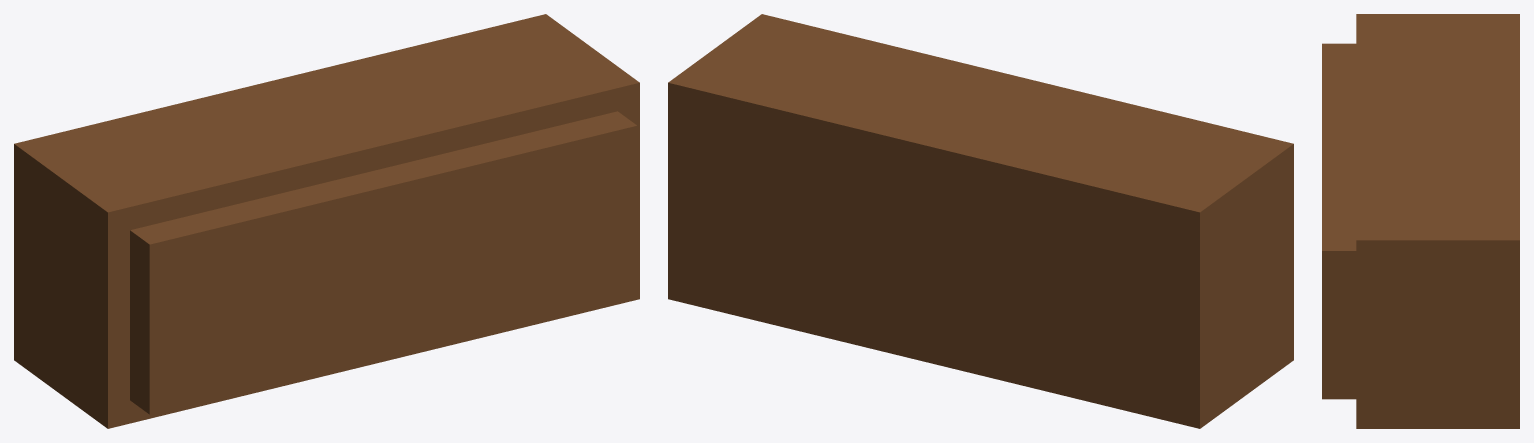
Rendered from SM_CommonWaterTrough.obj.
The picture shows the model from 3 angles, left to right: view 1: azimuth 30°, elevation 25°; view 2: azimuth 150°, elevation 25°; view 3: azimuth 270°, elevation 25°; orthographic projection. The views are drawn at different scales.
Visible parts, largest first — view 1: SM_CommonWaterTrough; view 2: SM_CommonWaterTrough; view 3: SM_CommonWaterTrough.
Boxes of the visible parts, <box> form: SM_CommonWaterTrough: <box>14,14,639,428</box>; SM_CommonWaterTrough: <box>668,14,1293,428</box>; SM_CommonWaterTrough: <box>1322,14,1519,428</box>.
Bounding box in the file's own units: 180 × 70 × 66.5.
